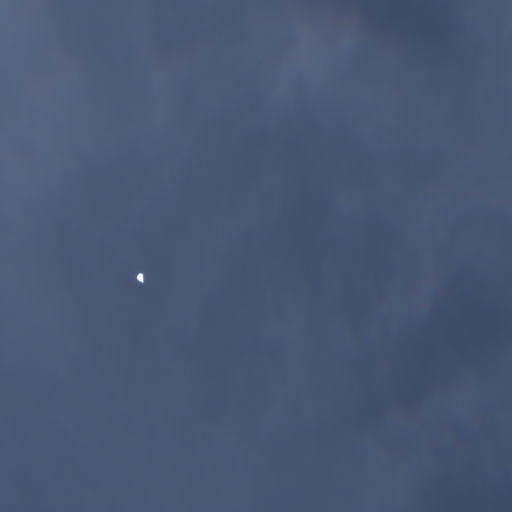Iceberg: (136, 273, 143, 282)
